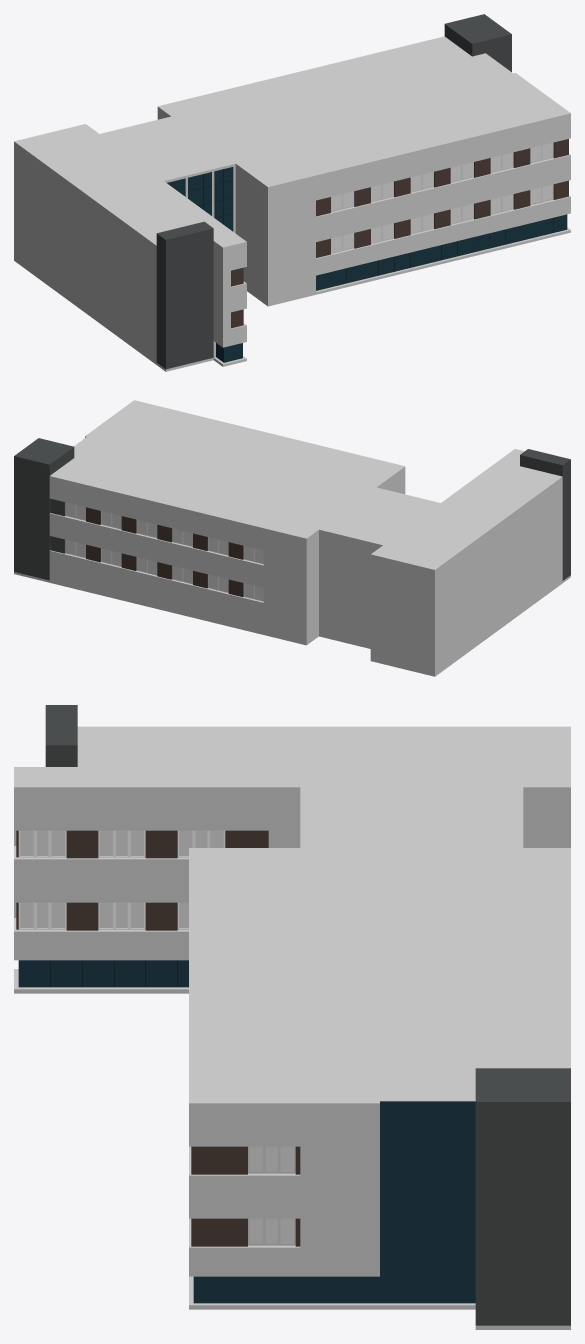
The model's file is bilgisayarFakultesi.fbx.
3 views of the same model, one above another, from view 1: azimuth 30°, elevation 25°; view 2: azimuth 150°, elevation 25°; view 3: azimuth 270°, elevation 25° (orthographic). The views are drawn at different scales.
Visible parts, largest first — view 1: Plane; view 2: Plane; view 3: Plane.
Boxes of the visible parts, x1,y1,x2,y2 form: Plane: (14, 14, 570, 371); Plane: (14, 400, 570, 676); Plane: (14, 705, 570, 1329).
Size of the model in its own units: 5900 by 1580 by 3500.
